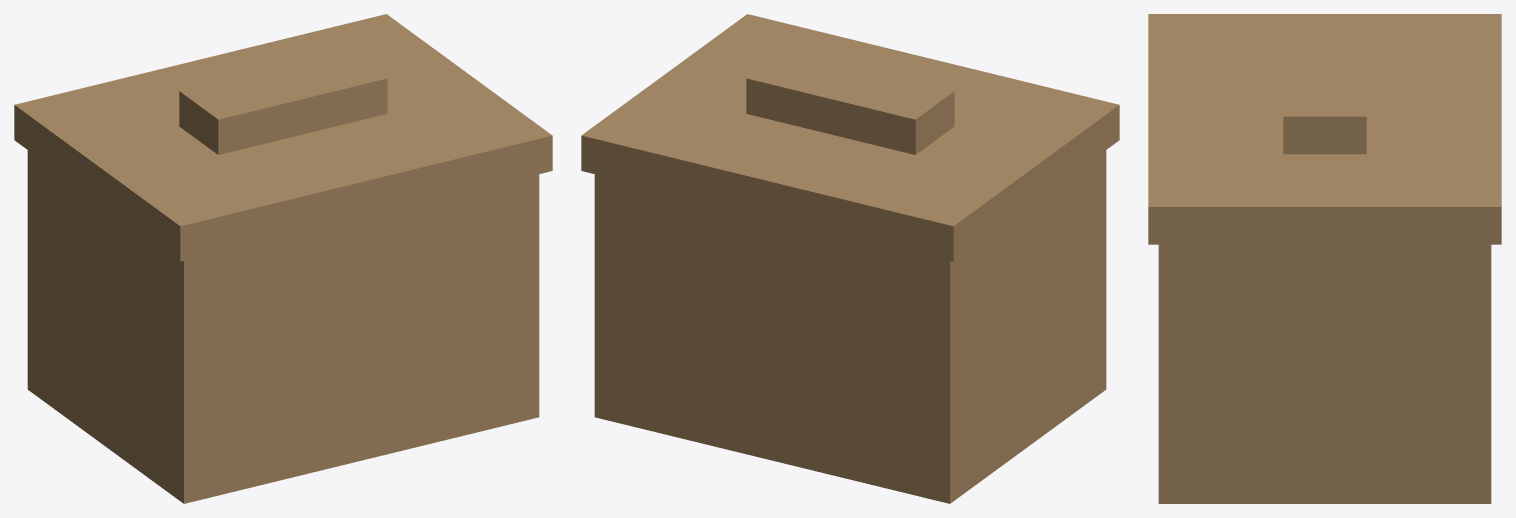
The model's file is product_press_carton.glb.
3 renders of one model, left to right at view 1: azimuth 30°, elevation 25°; view 2: azimuth 150°, elevation 25°; view 3: azimuth 270°, elevation 25°, orthographic. The views are drawn at different scales.
Parts seen in each view (by area): view 1: ProductArt_body; view 2: ProductArt_body; view 3: ProductArt_body.
Boxes of the visible parts, left/top/right/bottom form: ProductArt_body: left=14, top=14, right=552, bottom=503; ProductArt_body: left=581, top=14, right=1119, bottom=503; ProductArt_body: left=1148, top=14, right=1501, bottom=503.
Size of the model in its own units: 0.24 by 0.1964 by 0.1855.
